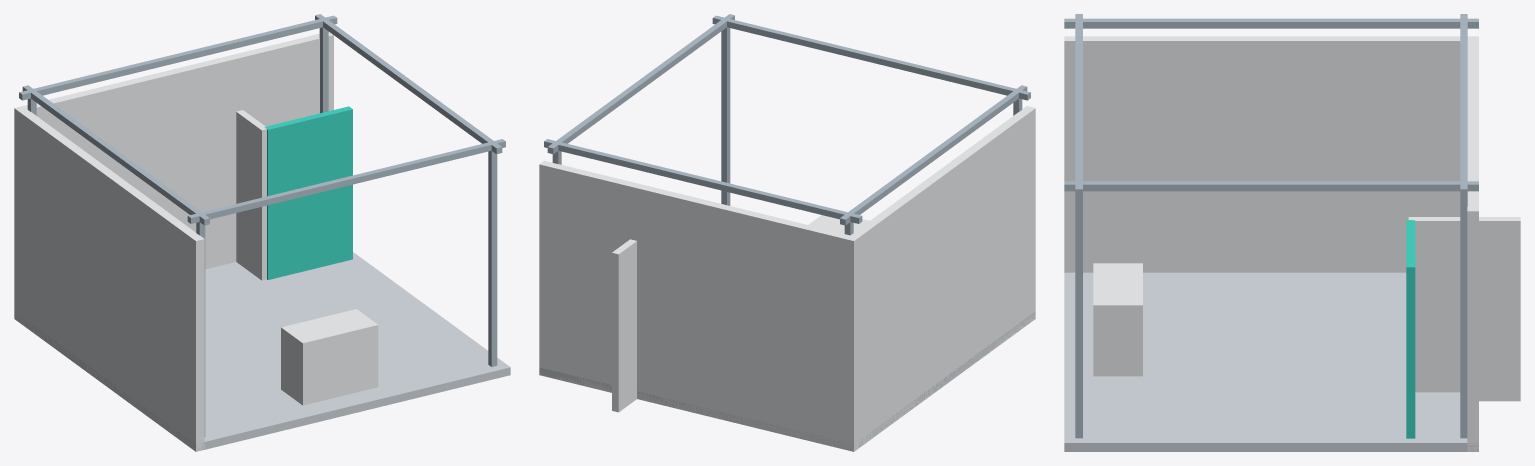
The picture shows the model from 3 angles, left to right: view 1: azimuth 30°, elevation 25°; view 2: azimuth 150°, elevation 25°; view 3: azimuth 270°, elevation 25°; orthographic projection. The views are drawn at different scales.
Visible parts, largest first — view 1: Exhibition Booth Concept; view 2: Exhibition Booth Concept; view 3: Exhibition Booth Concept.
Part boxes in pixels (x1=…): Exhibition Booth Concept: x1=14, y1=14, x2=510, y2=451; Exhibition Booth Concept: x1=539, y1=14, x2=1035, y2=451; Exhibition Booth Concept: x1=1064, y1=14, x2=1520, y2=451.
Size of the model in its own units: 5 by 3.49 by 5.51.
